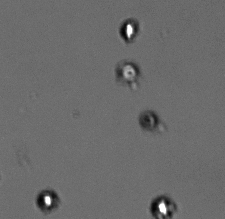Dead Cell: (137, 108, 161, 131)
Living Cell: (149, 193, 179, 217), (35, 187, 60, 212), (119, 17, 141, 44), (116, 60, 141, 82)
